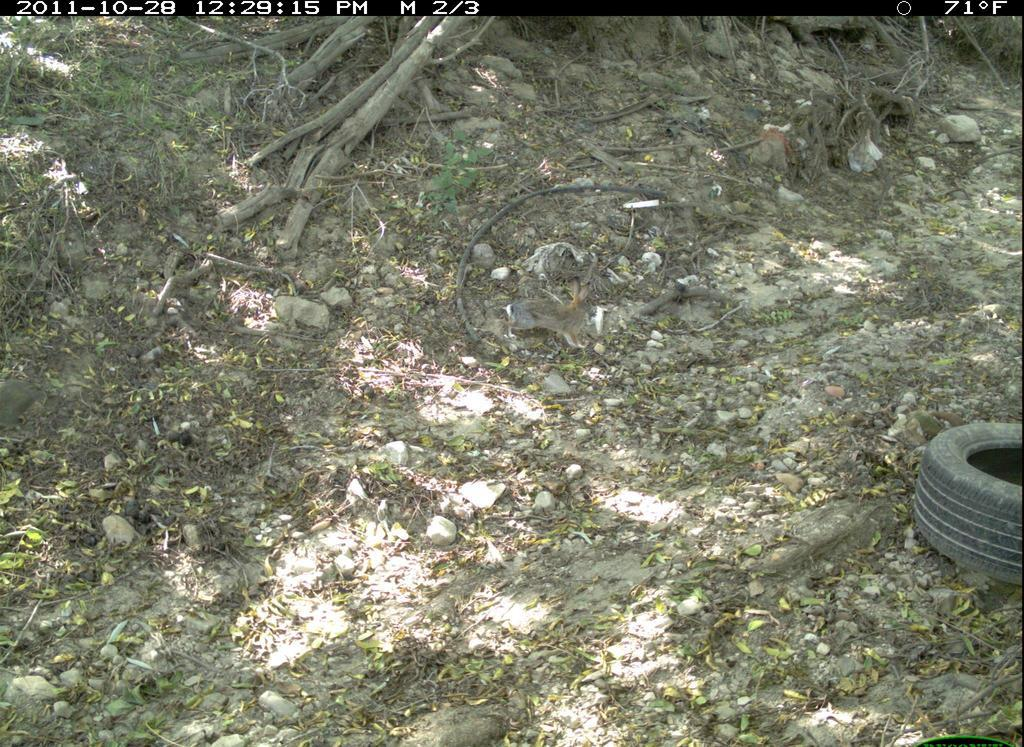rabbit: (498, 280, 610, 359)
